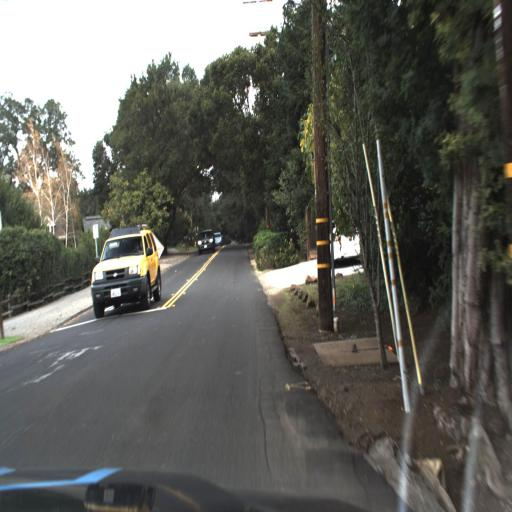car: (87, 221, 162, 317), (196, 228, 214, 255), (213, 228, 224, 246)
